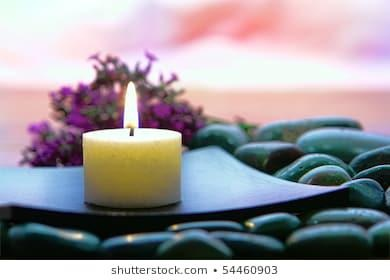fire: (120, 78, 140, 129)
